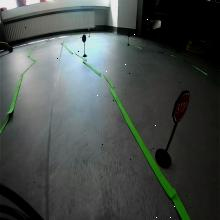stop: (172, 90, 190, 124)
